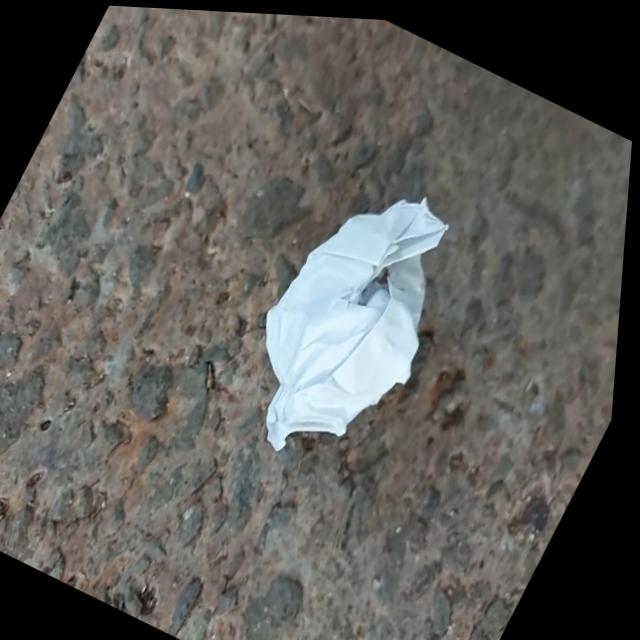paper: (190, 130, 505, 506)
